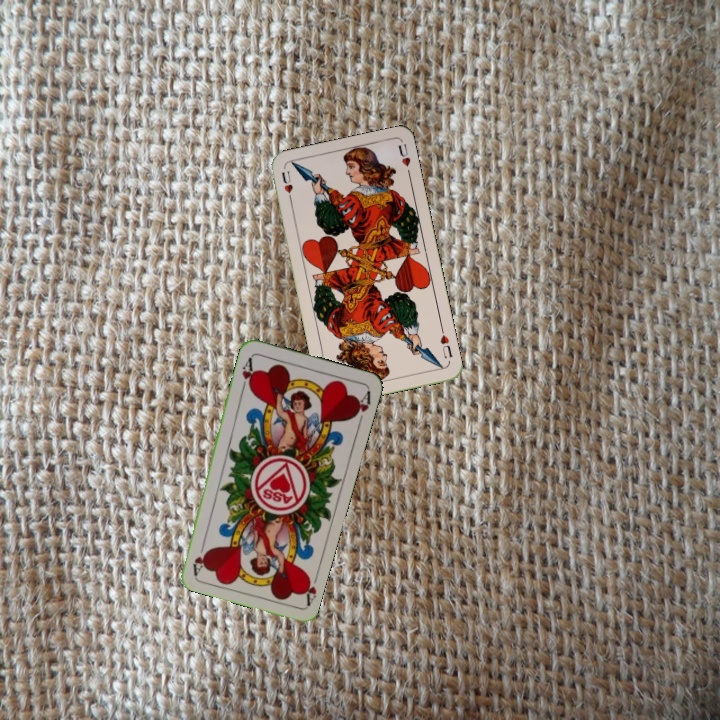HA: (298, 568, 321, 608), (238, 353, 257, 393)
HU: (436, 324, 455, 361), (277, 167, 295, 205)
